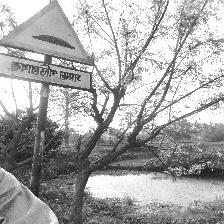Speed-breaker: (0, 0, 94, 93)
